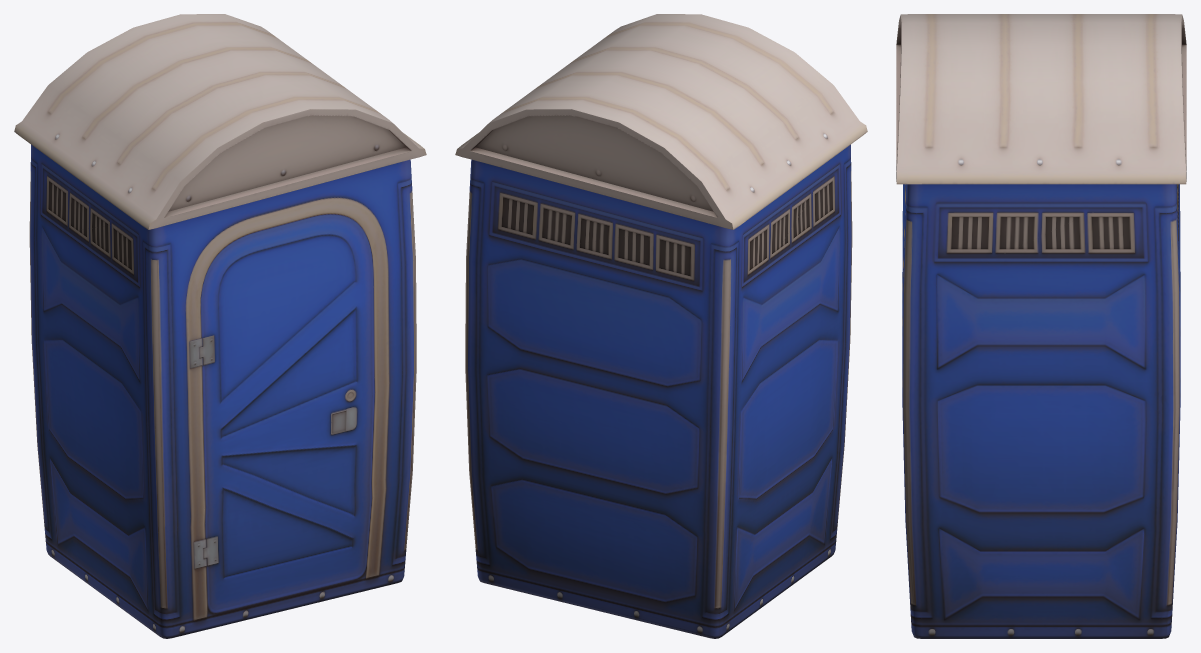
The model's file is ToiletPortable01_1.FBX.
The picture shows the model from 3 angles, left to right: view 1: azimuth 30°, elevation 25°; view 2: azimuth 150°, elevation 25°; view 3: azimuth 270°, elevation 25°; orthographic projection. The views are drawn at different scales.
Parts seen in each view (by area): view 1: ToiletPortable01_1; view 2: ToiletPortable01_1; view 3: ToiletPortable01_1.
Boxes of the visible parts, box(x1,y1,x2,y2) form: ToiletPortable01_1: box(14, 14, 426, 638); ToiletPortable01_1: box(455, 14, 867, 638); ToiletPortable01_1: box(896, 14, 1186, 638).
Size of what is drawn, in the model's own units: 1.54 by 2.65 by 1.29.
